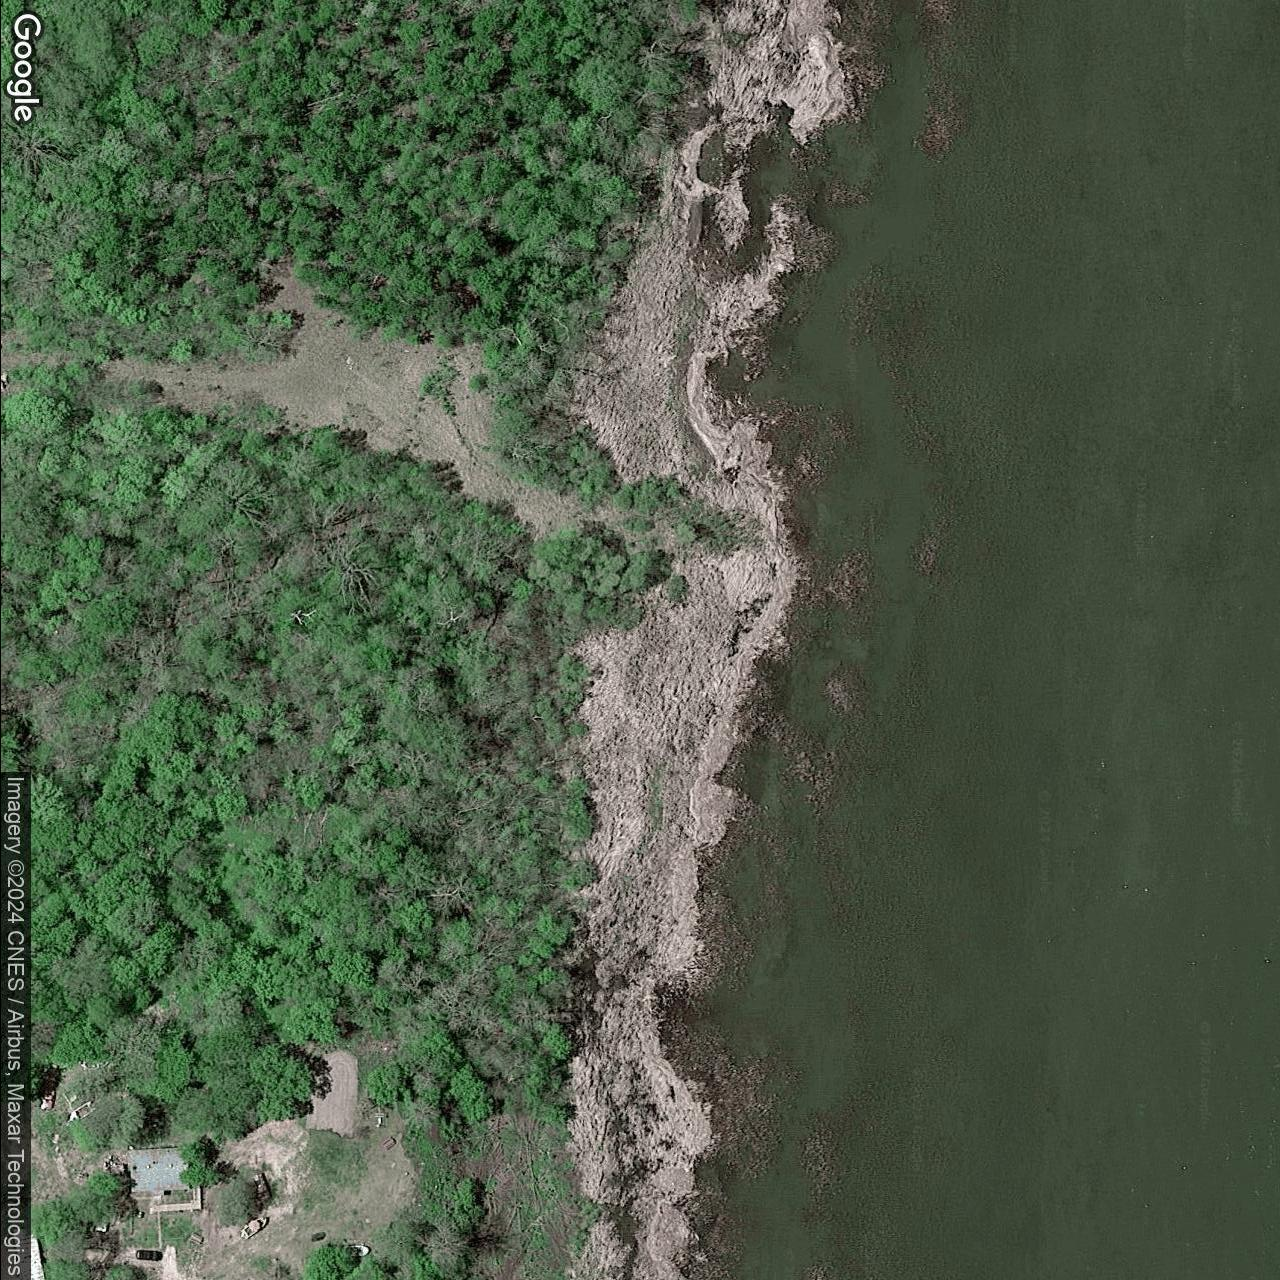House: (125, 1146, 190, 1194)
